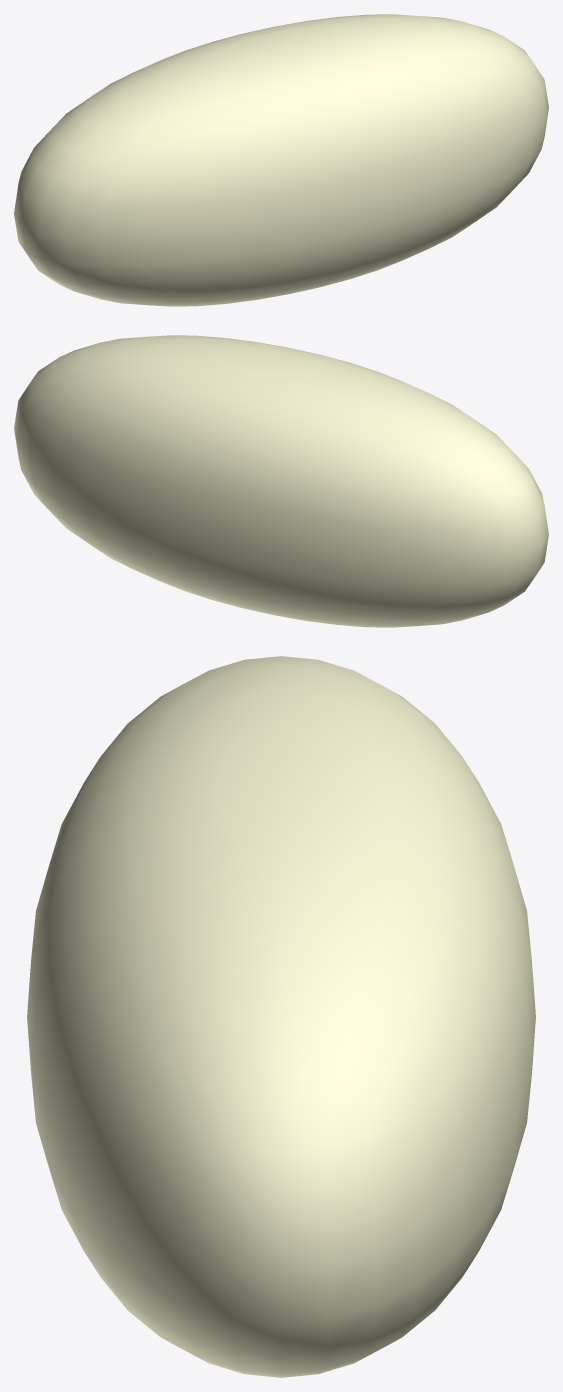
The picture shows the model from 3 angles, top to bottom: view 1: azimuth 30°, elevation 25°; view 2: azimuth 150°, elevation 25°; view 3: azimuth 270°, elevation 25°; orthographic projection. The views are drawn at different scales.
Visible parts, largest first — view 1: item; view 2: item; view 3: item.
Boxes of the visible parts, left/top/right/bottom form: item: left=14, top=14, right=548, bottom=306; item: left=14, top=335, right=548, bottom=627; item: left=27, top=656, right=535, bottom=1377.
Size of the model in its own units: 0.0219 by 0.00928 by 0.00928.
